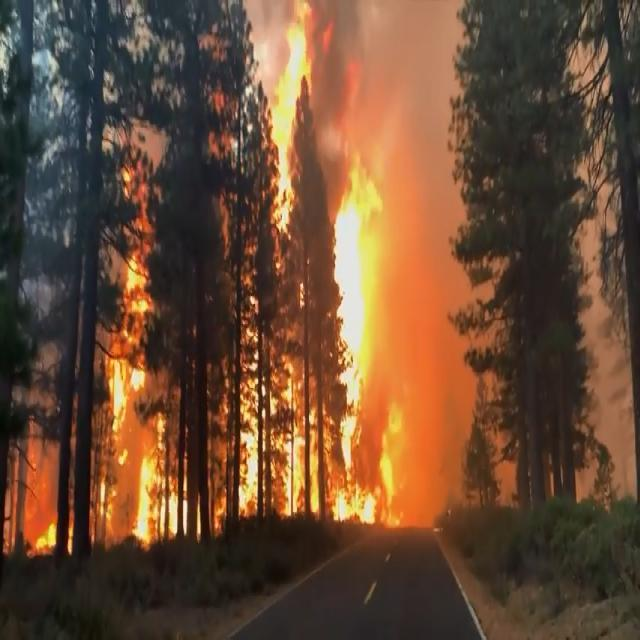Fire: (31, 6, 404, 556)
